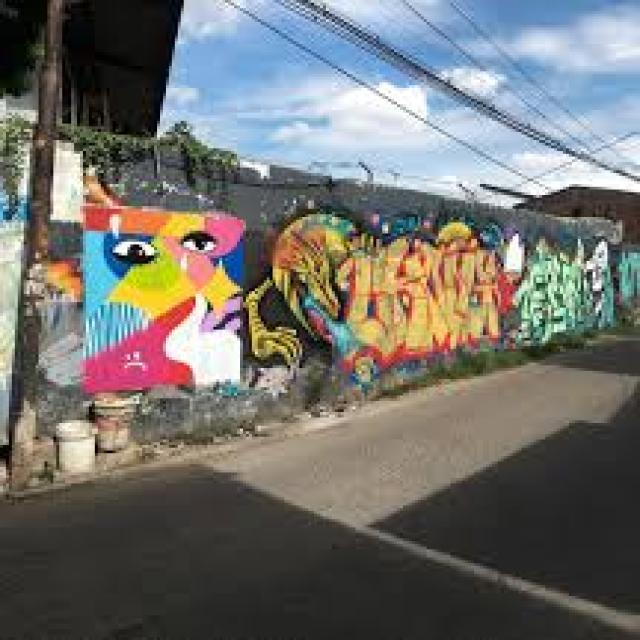-: (246, 210, 498, 364), (81, 206, 242, 384), (514, 252, 596, 346), (46, 256, 82, 330), (588, 238, 615, 330)
